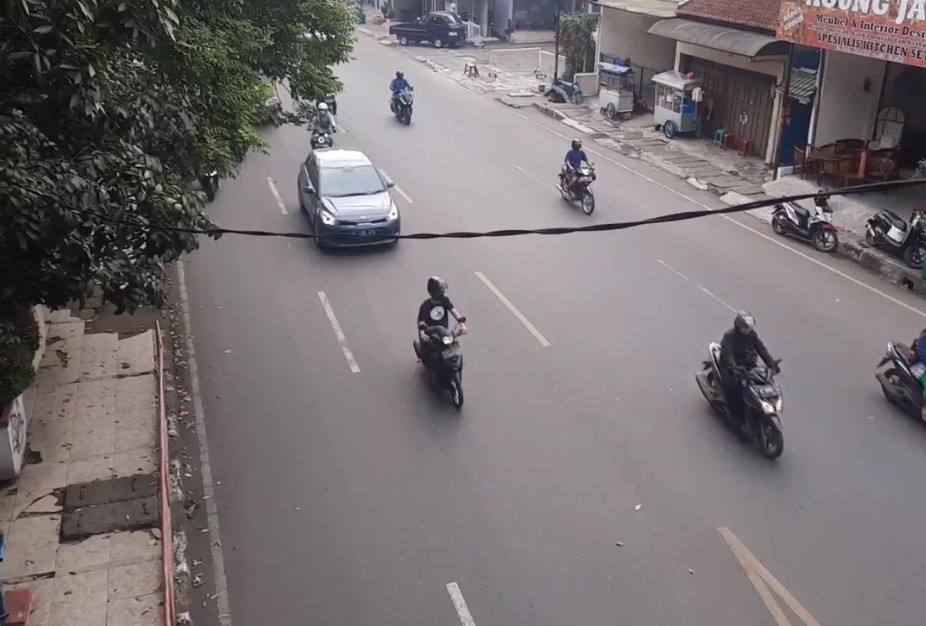mobil: (310, 162, 400, 249)
motor: (697, 305, 795, 463), (407, 273, 472, 415), (555, 133, 598, 220), (383, 69, 421, 130)
